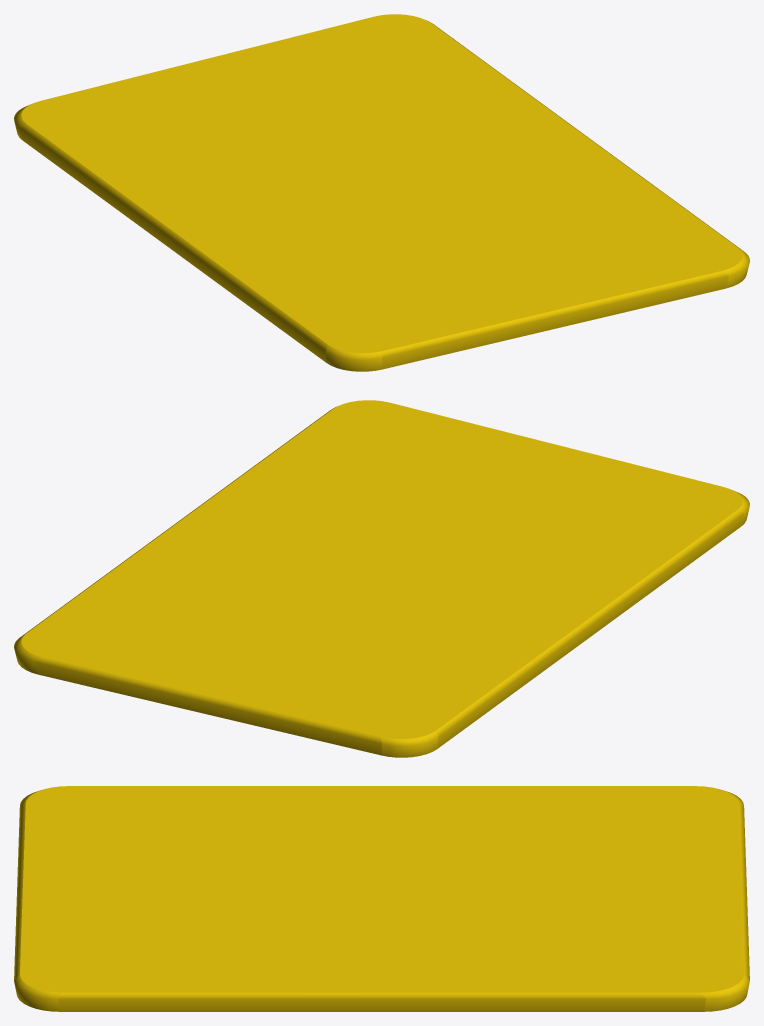
Rendered from Board_Puzzle_01.fbx.
The picture shows the model from 3 angles, top to bottom: view 1: azimuth 30°, elevation 25°; view 2: azimuth 150°, elevation 25°; view 3: azimuth 270°, elevation 25°; orthographic projection. The views are drawn at different scales.
Visible parts, largest first — view 1: Board_Puzzle_01; view 2: Board_Puzzle_01; view 3: Board_Puzzle_01.
Part boxes in pixels (bbox=[...]): Board_Puzzle_01: bbox=[14, 14, 749, 371]; Board_Puzzle_01: bbox=[14, 400, 749, 757]; Board_Puzzle_01: bbox=[14, 786, 749, 1011].
Size of the model in its own units: 42.56 by 1.67 by 62.54.
